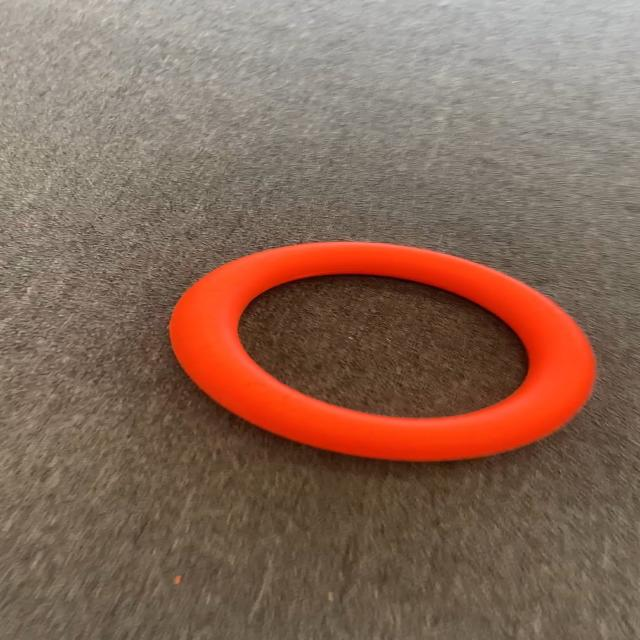notes: (162, 240, 602, 466)
